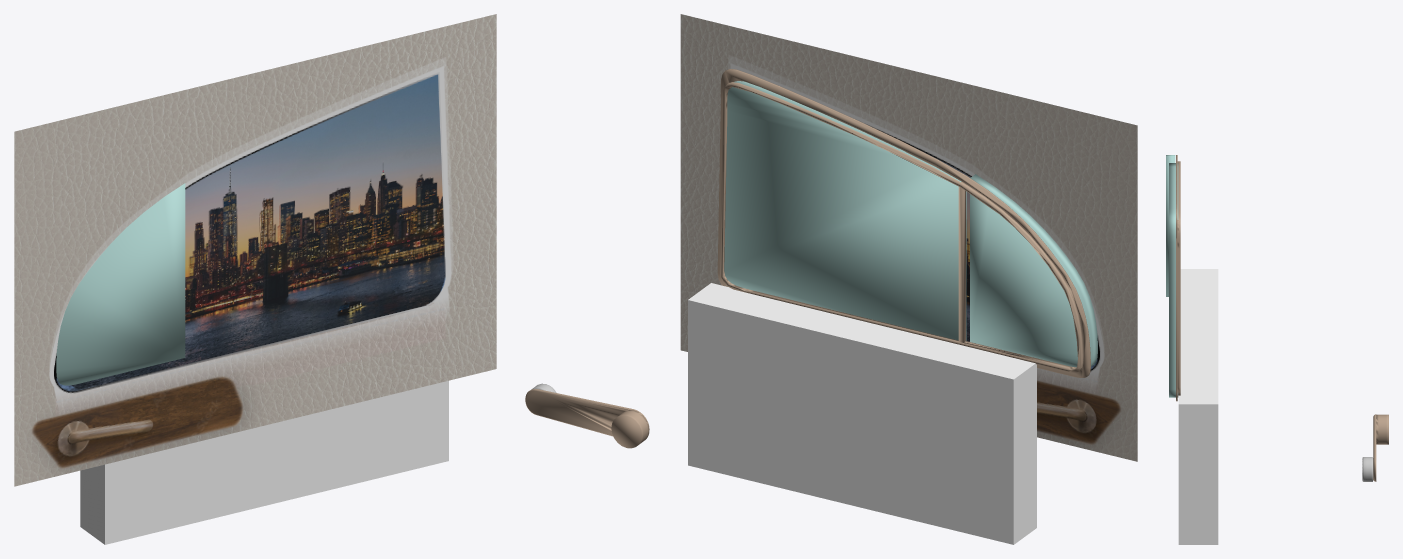
Rendered from Prefab-window.fbx.
The picture shows the model from 3 angles, left to right: view 1: azimuth 30°, elevation 25°; view 2: azimuth 150°, elevation 25°; view 3: azimuth 270°, elevation 25°; orthographic projection. The views are drawn at different scales.
Visible parts, largest first — view 1: plane_windowBG, window_shader, smallwindow; view 2: window_shader, plane_windowBG, largeWindow, smallwindow, frame, Line002; view 3: window_shader, largeWindow, frame, Line002, smallwindow, Cylinder003.
Boxes of the visible parts, x1,y1,x2,y2 form: plane_windowBG: [14, 14, 496, 486]; window_shader: [80, 380, 448, 544]; smallwindow: [56, 183, 185, 385]; window_shader: [688, 283, 1036, 544]; plane_windowBG: [680, 14, 1137, 461]; largeWindow: [724, 81, 966, 340]; smallwindow: [970, 174, 1097, 367]; frame: [717, 69, 1090, 377]; Line002: [525, 389, 649, 448]; window_shader: [1178, 269, 1218, 544]; largeWindow: [1169, 163, 1178, 397]; frame: [1176, 155, 1180, 401]; Line002: [1373, 414, 1388, 481]; smallwindow: [1166, 155, 1175, 296]; Cylinder003: [1362, 457, 1373, 481].
Size of the model in its own units: 24189 by 19840 by 11230.
